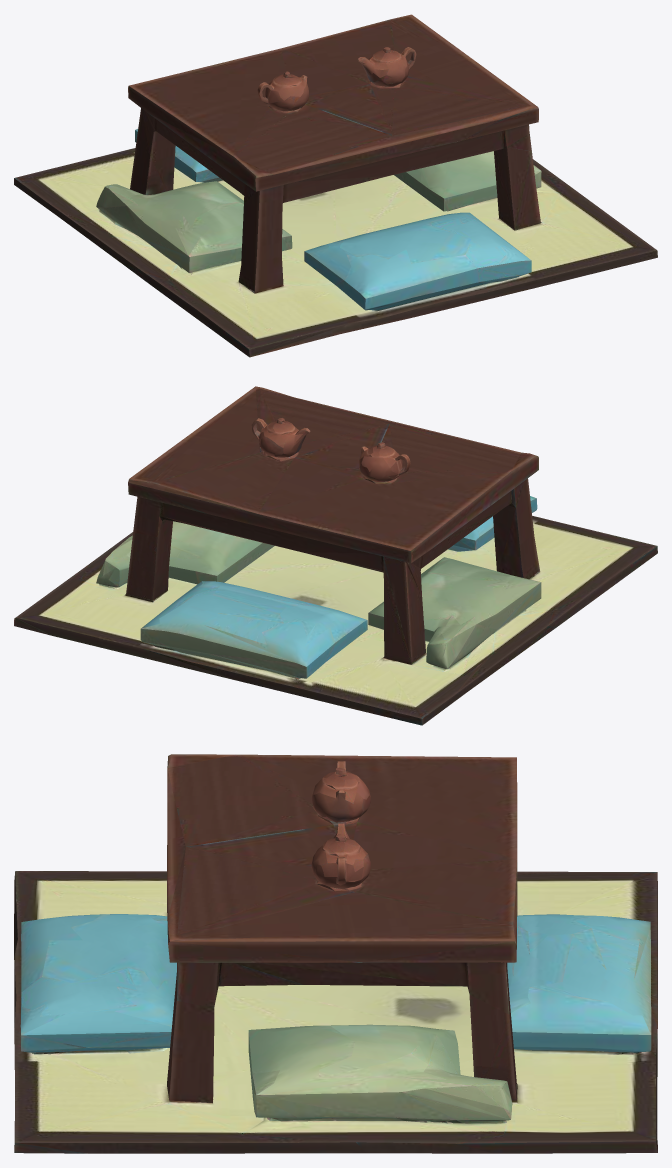
The model's file is low_table.glb.
The picture shows the model from 3 angles, top to bottom: view 1: azimuth 30°, elevation 25°; view 2: azimuth 150°, elevation 25°; view 3: azimuth 270°, elevation 25°; orthographic projection. The views are drawn at different scales.
Parts seen in each view (by area): view 1: low_table; view 2: low_table; view 3: low_table.
Boxes of the visible parts, left/top/right/bottom form: low_table: left=14, top=14, right=657, bottom=357; low_table: left=14, top=386, right=657, bottom=725; low_table: left=14, top=754, right=657, bottom=1153.
Bounding box in the file's own units: 1.6 × 0.6 × 1.6.
1 material, 1 textured.
